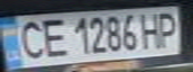1: (69, 13, 90, 55)
2: (87, 14, 109, 54)
6: (121, 11, 142, 52)
8: (103, 12, 124, 53)
C: (9, 17, 48, 61)
E: (36, 16, 69, 58)
H: (136, 10, 166, 51)
P: (154, 9, 184, 50)
